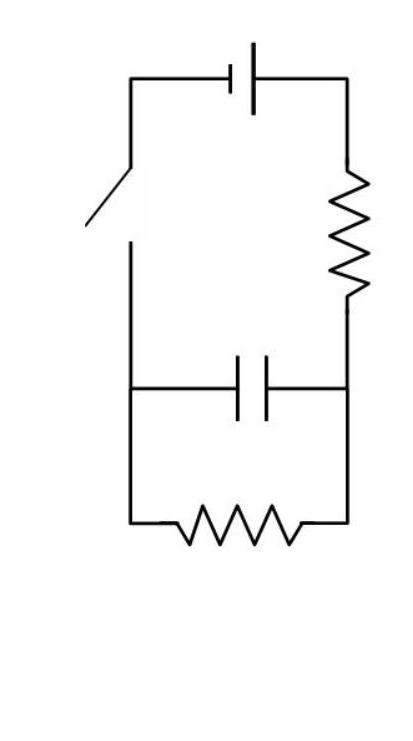resistor: (149, 475, 328, 585), (294, 134, 390, 315)
